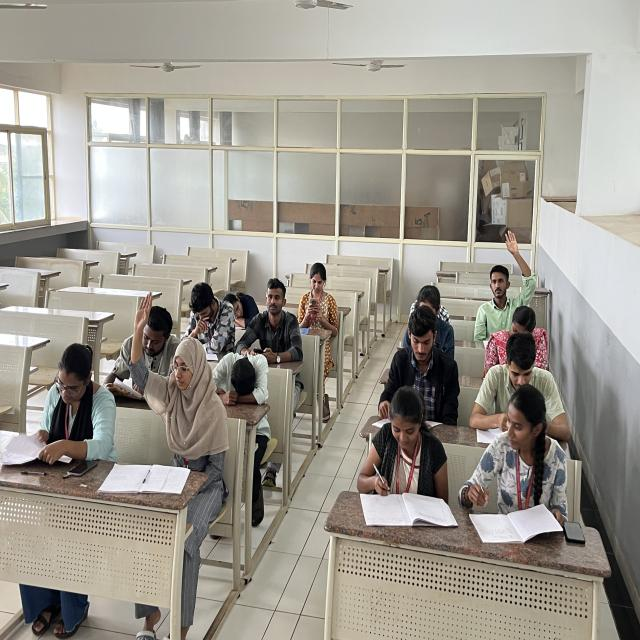Hand Rising: (122, 300, 229, 460)
Reading: (9, 322, 118, 463), (487, 403, 572, 540), (94, 294, 184, 394), (384, 312, 456, 431), (473, 350, 567, 438), (172, 260, 234, 358), (387, 287, 457, 354)
Sleeping: (214, 336, 279, 424), (220, 256, 270, 332), (410, 282, 464, 321)
Using Phone: (295, 254, 361, 355), (244, 277, 312, 357)
Writing: (356, 390, 458, 530)
